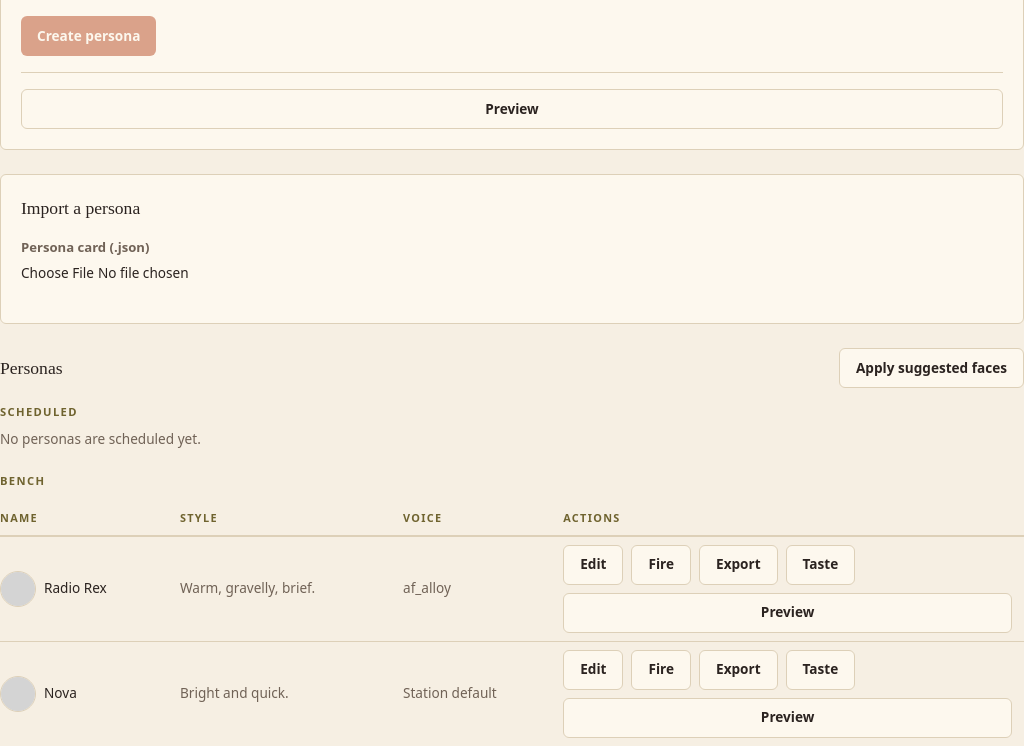
Test: Feature: Two-stage firing with a parachute › Scenario: the export-first gate (SPEC F94.2, STORY-247 AC2) › enables Delete once the skip-export box is checked, with no export click at all
The image size is (1024, 746).
(page scrolled)
Click the button with aria-label "Fire Radio Rex". click: (661, 564)
box: [632,544,691,584]
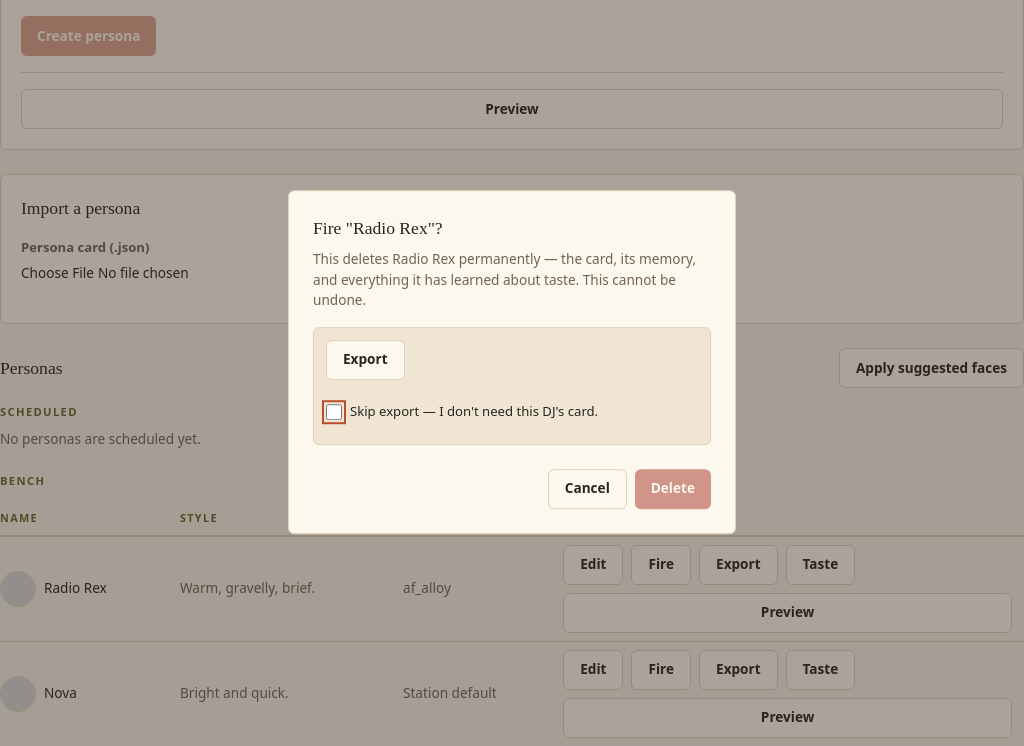
Click the checkbox. click: (334, 412)
box: [326,404,342,420]
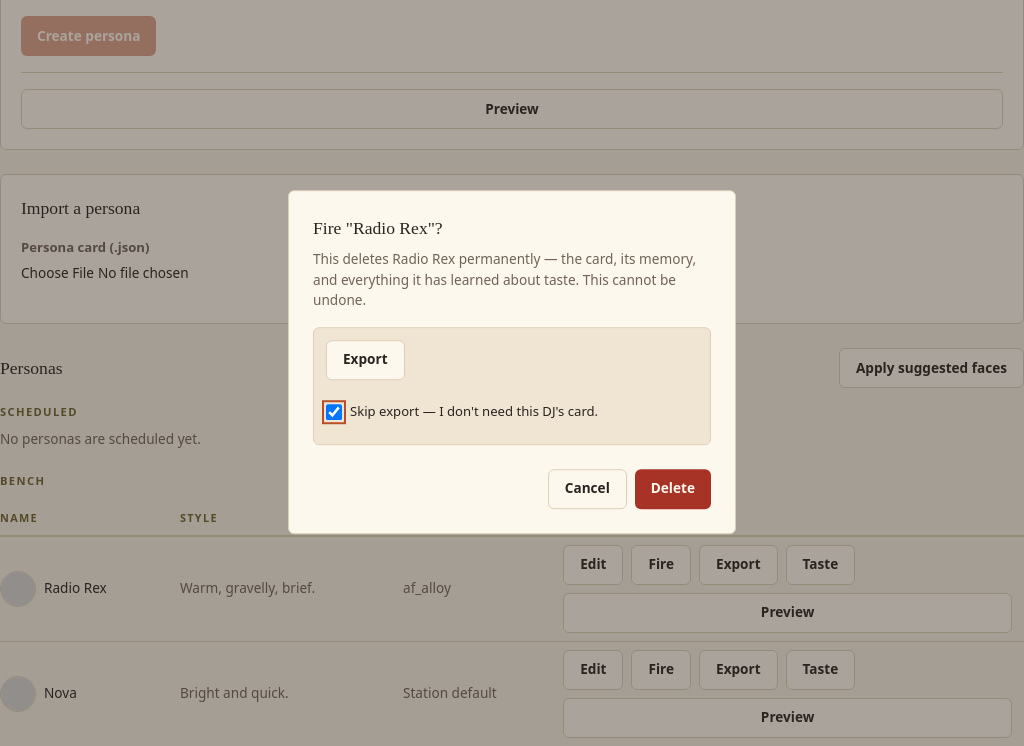
Check: the button "Delete" is enabled, box [635,469,711,509]
